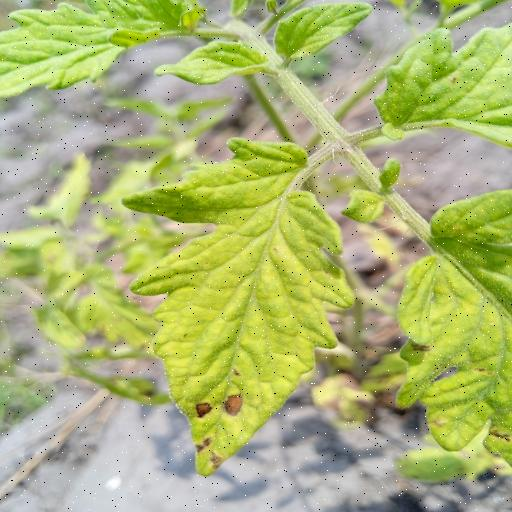Tomato_Brown_Spots: (117, 135, 359, 480), (391, 184, 512, 470), (0, 0, 204, 105), (375, 17, 512, 145)
